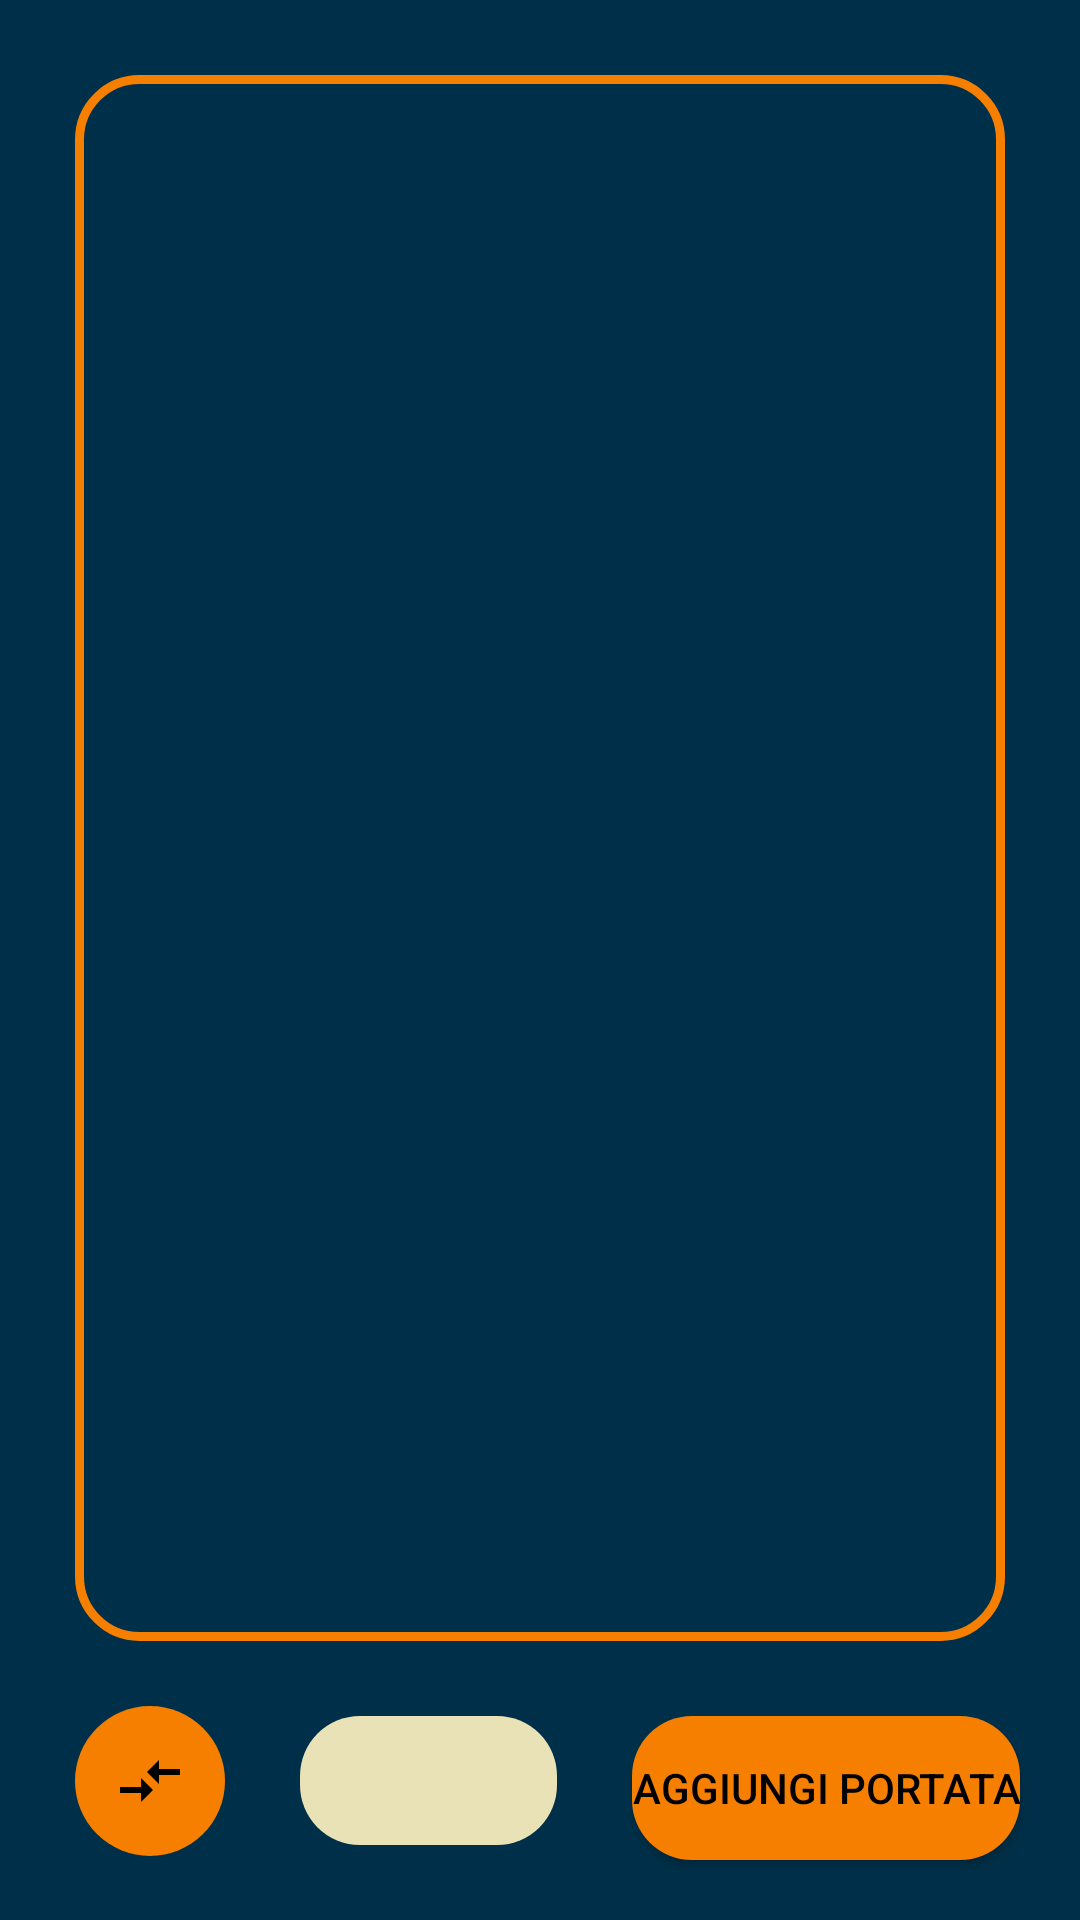

Icons on this 1080w x 1920h Android screen, each with its box as detection(x1, y1, x2, y2):
compare arrows: detection(75, 1706, 225, 1856)
